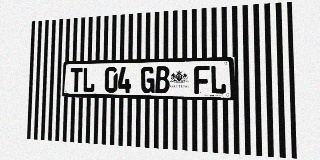0: (104, 67, 118, 93)
4: (118, 67, 131, 93)
B: (155, 66, 169, 93)
F: (194, 65, 210, 94)
G: (141, 66, 155, 93)
L: (210, 65, 226, 94), (82, 67, 95, 92)
T: (70, 68, 82, 92)
